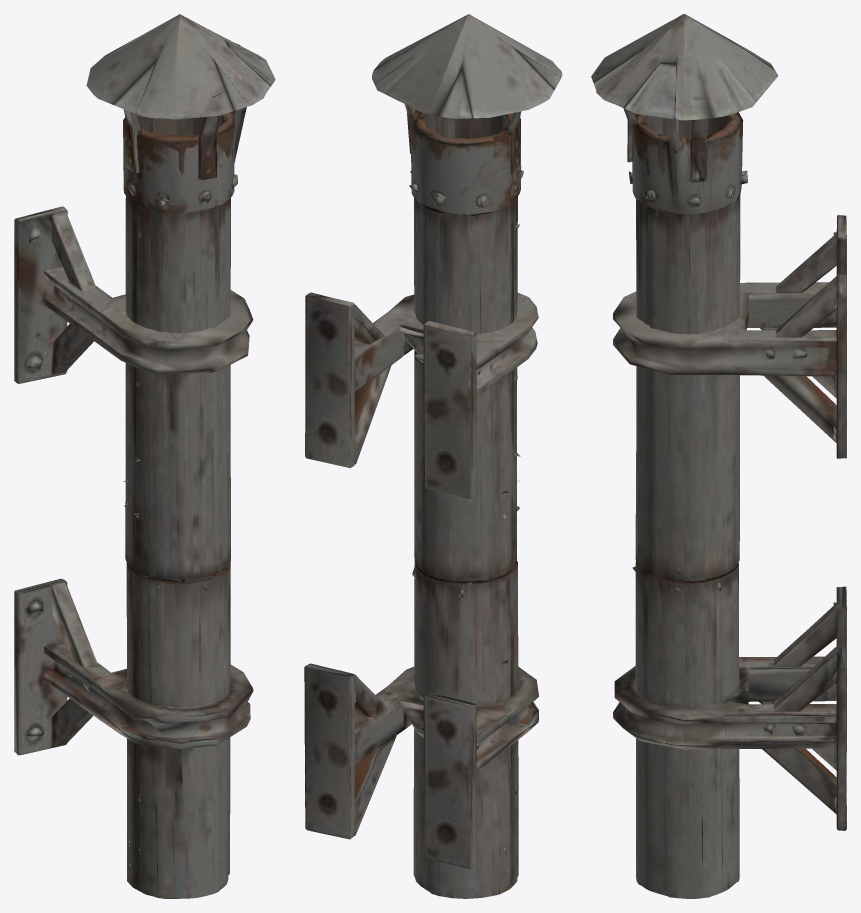
The model's file is chimney.glb.
The picture shows the model from 3 angles, left to right: view 1: azimuth 30°, elevation 25°; view 2: azimuth 150°, elevation 25°; view 3: azimuth 270°, elevation 25°; orthographic projection.
Bounding box in the file's own units: 0.1953 × 0.9507 × 0.2553.
1 material, 1 textured.
